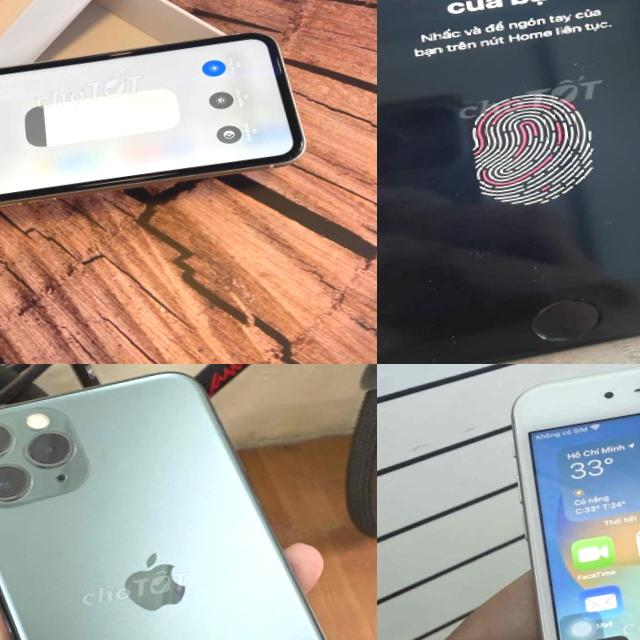gen_11: (0, 364, 377, 640), (0, 33, 303, 204)
gen_7_8: (377, 0, 640, 364), (474, 364, 640, 640)
